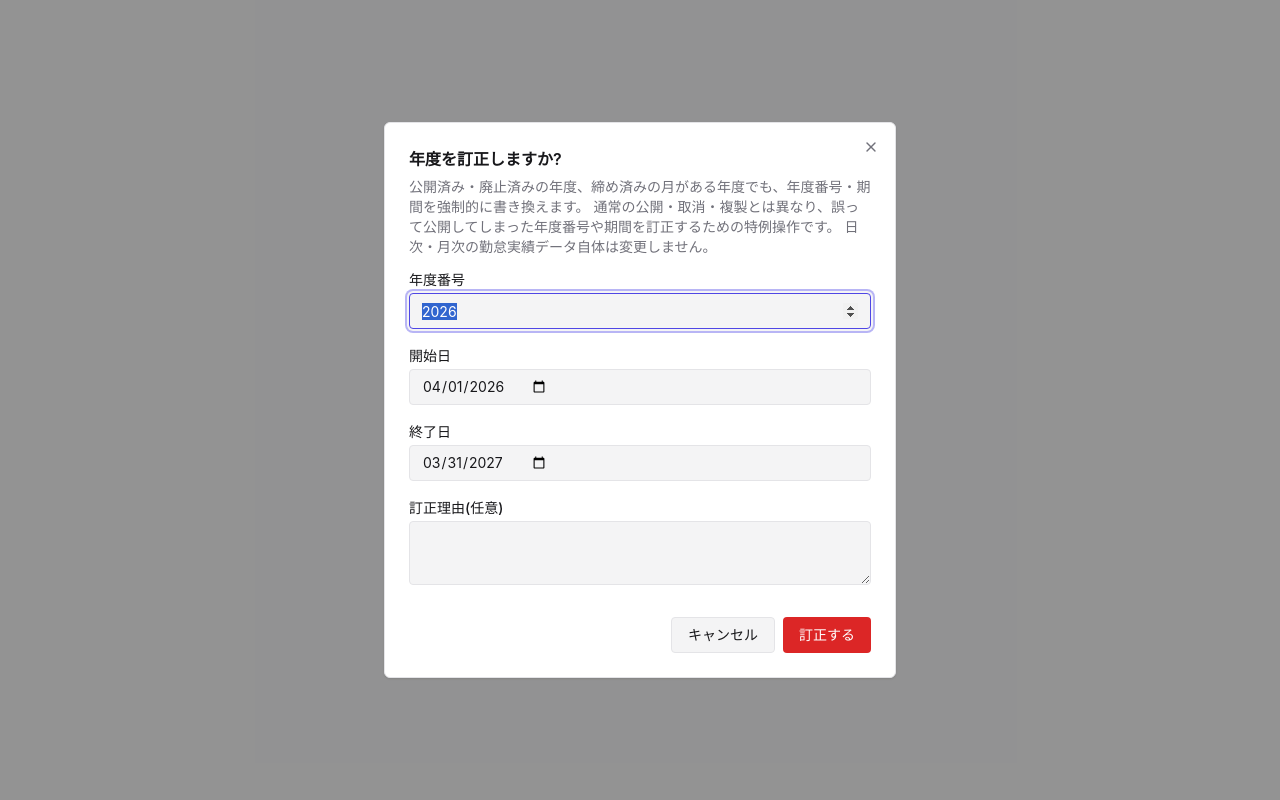
Scenario: CorrectFiscalYearDialog › shows a field error for a duplicate fiscal year without closing the dialog
This screenshot has width=1280, height=800.
Step 1. Click the button "訂正する" → (827, 635), box [783,617,871,653]
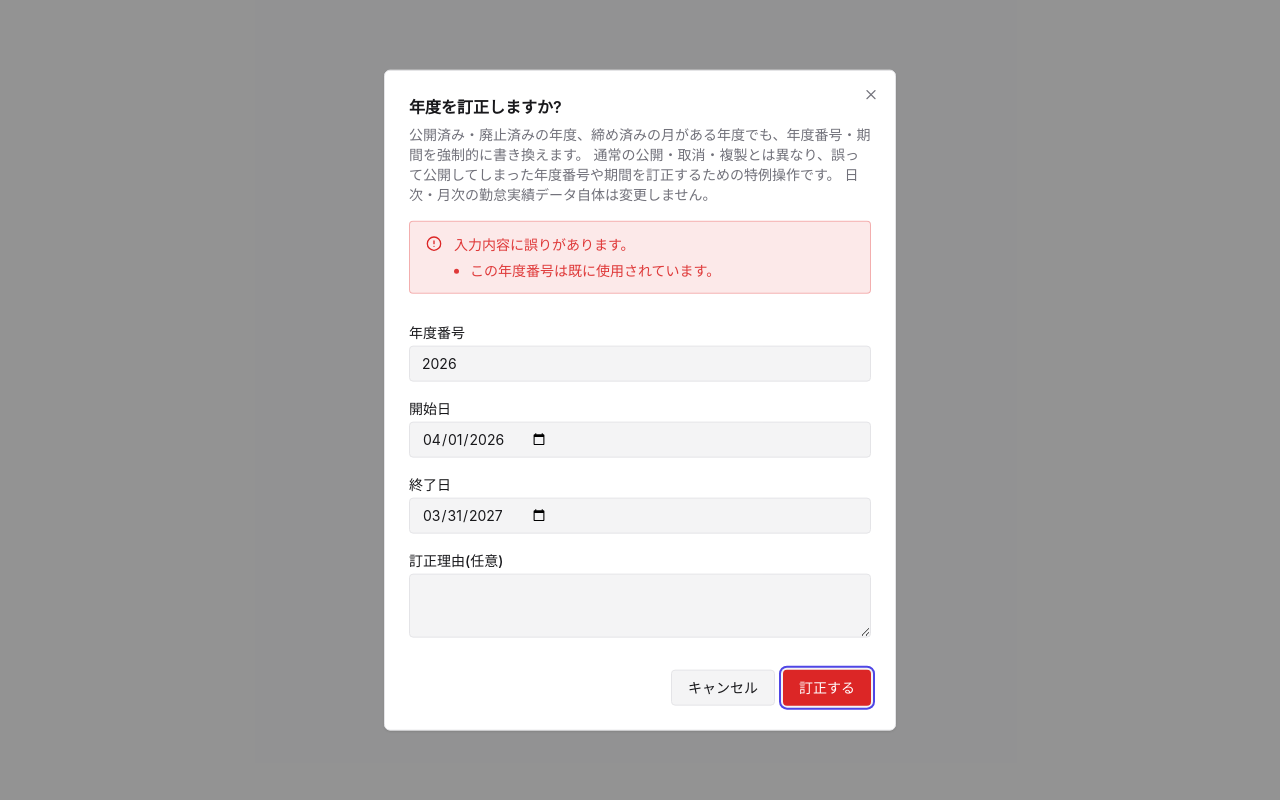
Check: the dialog is shown, box [384,70,896,730]
Check: the list item "この年度番号は既に使用されています。" is shown, box [470,260,720,280]
